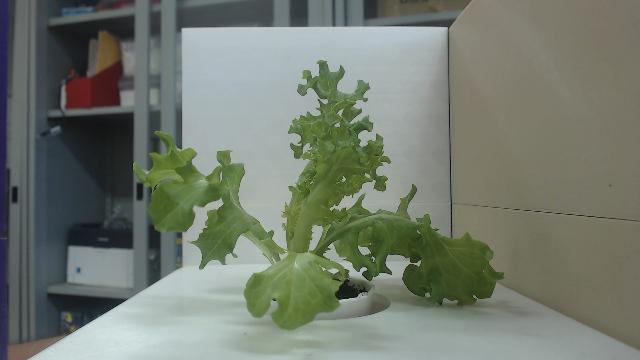Harvest Stage: (132, 57, 506, 330)
